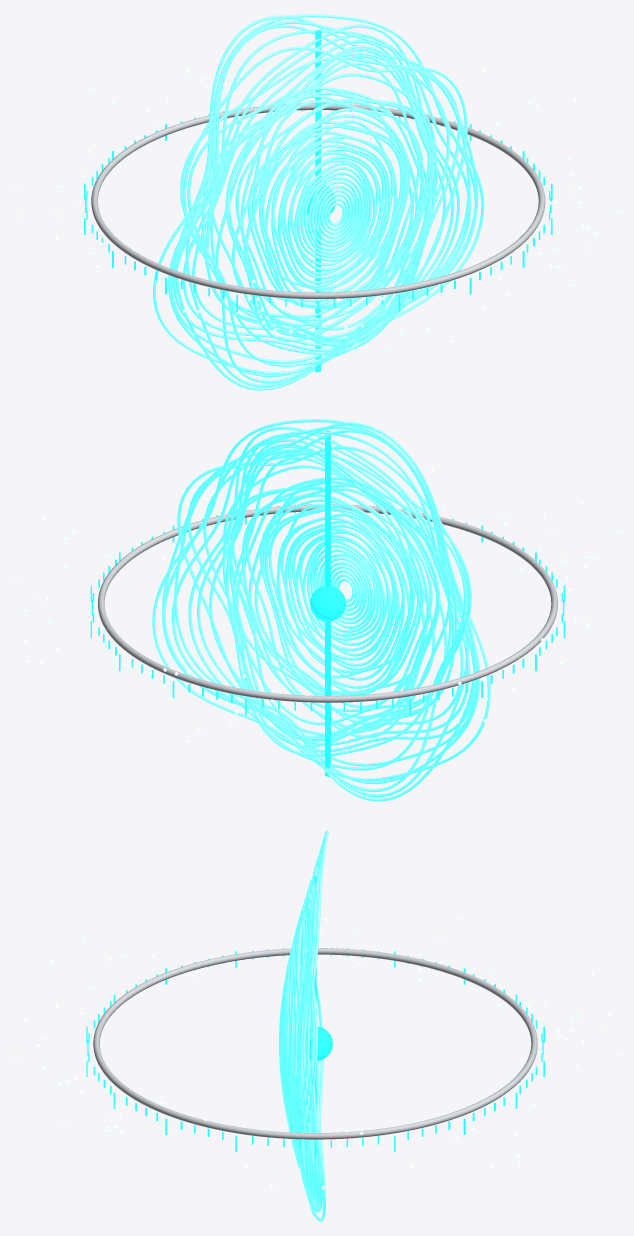
File: fingerprint.glb
The picture shows the model from 3 angles, top to bottom: view 1: azimuth 30°, elevation 25°; view 2: azimuth 150°, elevation 25°; view 3: azimuth 270°, elevation 25°; orthographic projection. The views are drawn at different scales.
Visible parts, largest first — view 1: FingerprintRidges, ScannerRing, RingTicks, FloatingParticles, ScanBeam; view 2: FingerprintRidges, ScannerRing, ScanBeam, RingTicks, BiometricCore, FloatingParticles; view 3: FingerprintRidges, ScannerRing, RingTicks, FloatingParticles.
Part boxes in pixels (x1,y1,x2,y2): FingerprintRidges: (152,14,484,390); ScannerRing: (91,103,545,298); RingTicks: (84,103,552,317); FloatingParticles: (14,44,619,350); ScanBeam: (315,30,321,372); FingerprintRidges: (152,419,490,801); ScannerRing: (98,504,557,702); ScanBeam: (325,430,330,776); RingTicks: (90,504,565,721); BiometricCore: (310,586,345,621); FloatingParticles: (14,458,619,753); FingerprintRidges: (279,830,328,1221); ScannerRing: (93,948,537,1139); RingTicks: (86,947,544,1157); FloatingParticles: (14,917,619,1189).
Size of the model in its own units: 5.18 by 3.66 by 5.54.
